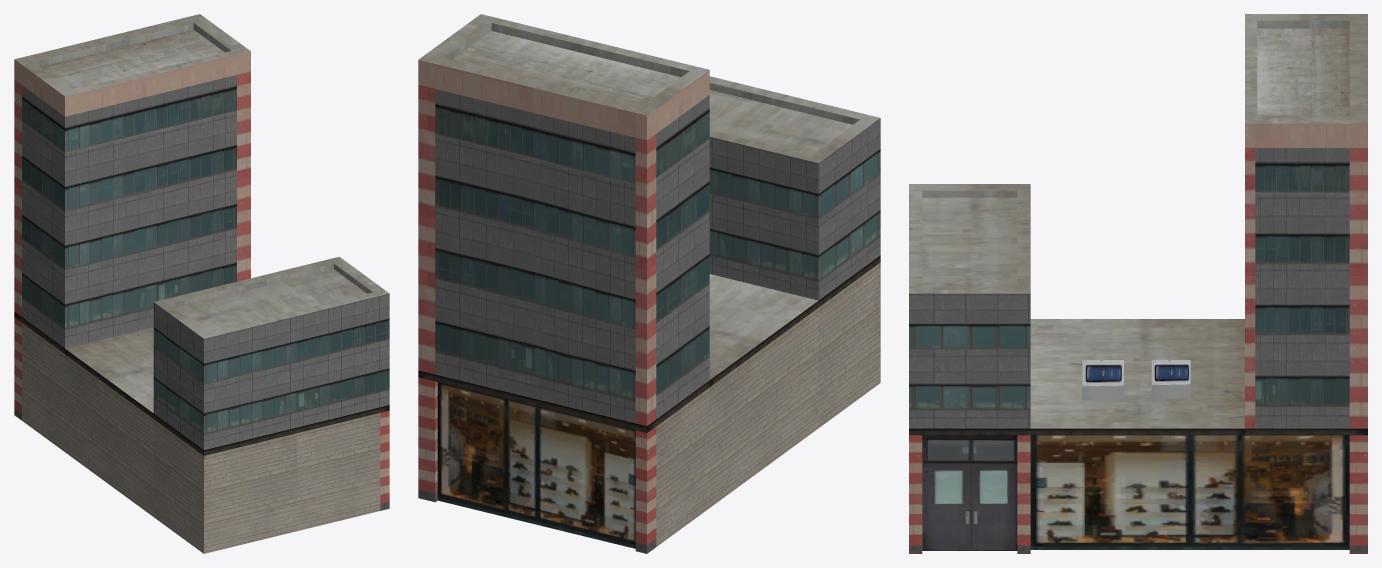
The model's file is Pizza_Delivery house31.fbx.
3 views of the same model, side by side, from view 1: azimuth 30°, elevation 25°; view 2: azimuth 150°, elevation 25°; view 3: azimuth 270°, elevation 25° (orthographic). The views are drawn at different scales.
Visible parts, largest first — view 1: Pizza_Delivery:Pizza_Delivery:house31; view 2: Pizza_Delivery:Pizza_Delivery:house31; view 3: Pizza_Delivery:Pizza_Delivery:house31.
Boxes of the visible parts, left/top/right/bottom form: Pizza_Delivery:Pizza_Delivery:house31: left=14, top=14, right=389, bottom=553; Pizza_Delivery:Pizza_Delivery:house31: left=418, top=14, right=880, bottom=553; Pizza_Delivery:Pizza_Delivery:house31: left=909, top=14, right=1367, bottom=553.
Size of the model in its own units: 9 by 16.47 by 15.92.
